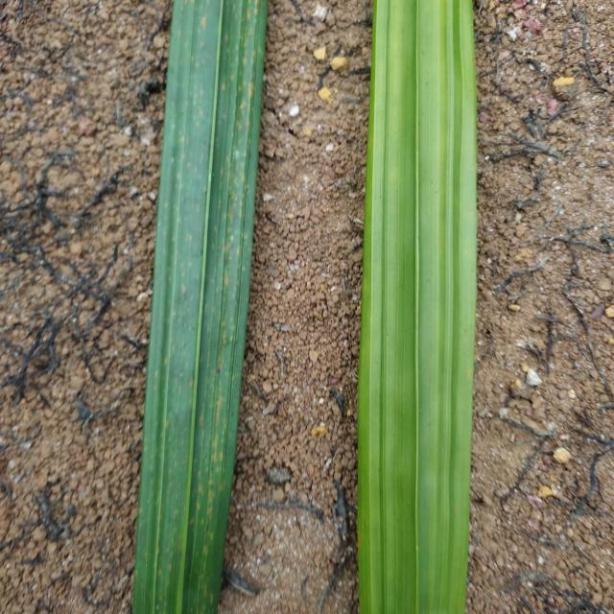nitrogen: (363, 0, 481, 614)
